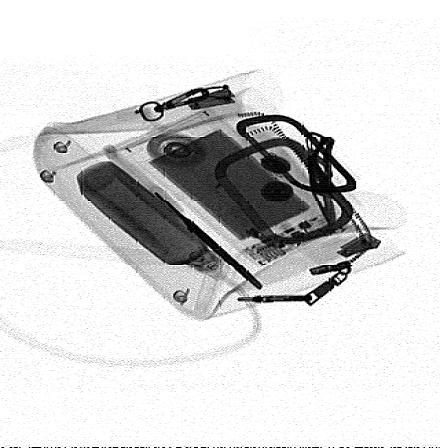Knife: (302, 128, 336, 230)
Powerbank: (126, 107, 349, 269)
Scissors: (104, 142, 272, 294)
